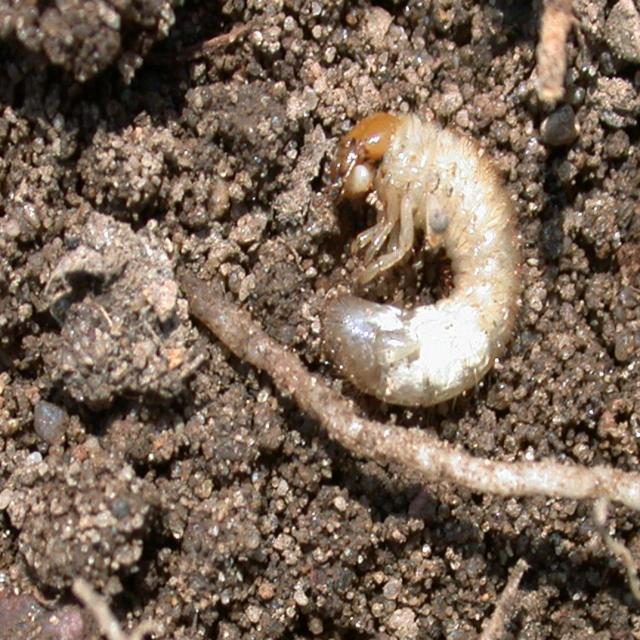Grub-Adult-: (297, 96, 544, 422)
